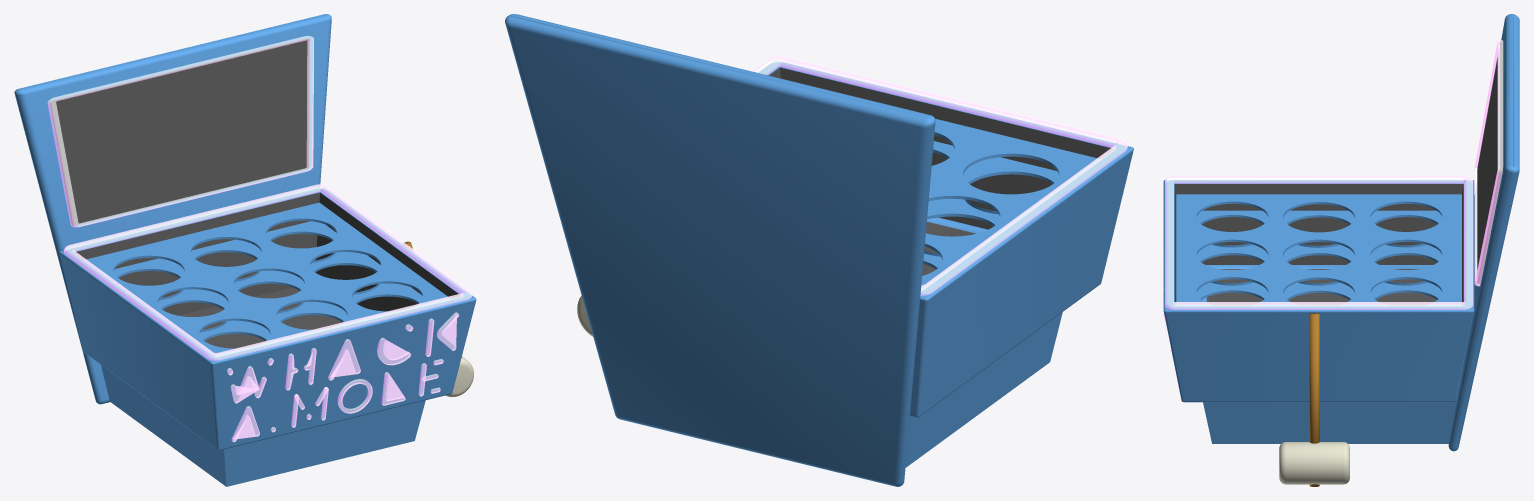
The model's file is machine-table.fbx.
3 renders of one model, left to right at view 1: azimuth 30°, elevation 25°; view 2: azimuth 150°, elevation 25°; view 3: azimuth 270°, elevation 25°, orthographic. The views are drawn at different scales.
Parts seen in each view (by area): view 1: Null, Null.001; view 2: Null; view 3: Null, Null.001, Null.002.
Part boxes in pixels (box(x1,y1,x2,y2)): Null: box(14, 14, 476, 486); Null.001: box(445, 356, 473, 397); Null: box(505, 14, 1133, 486); Null: box(1162, 14, 1519, 451); Null.001: box(1279, 442, 1349, 484); Null.002: box(1309, 313, 1319, 486).
Bounding box in the file's own units: 717 × 607 × 633.
